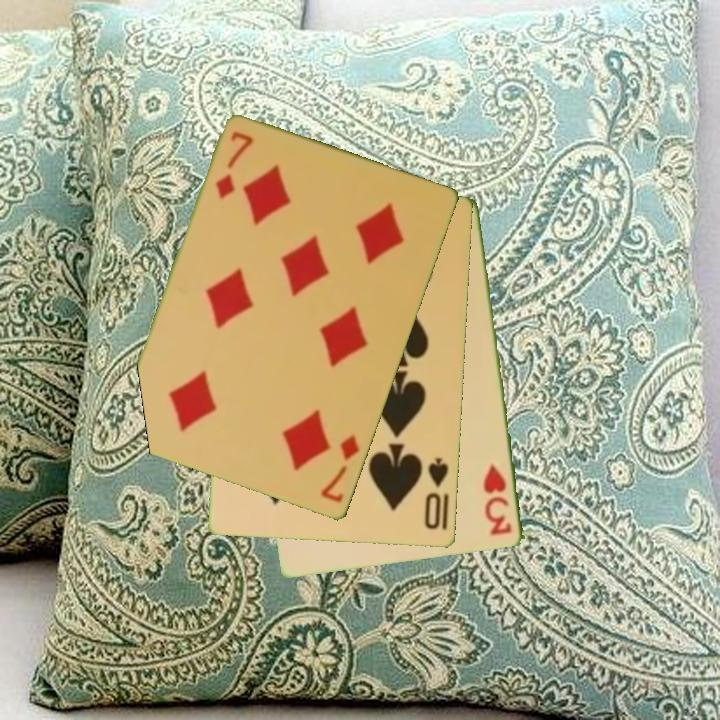10s: (421, 455, 452, 533)
3h: (480, 461, 515, 539)
7d: (212, 128, 257, 203), (318, 432, 363, 506)
